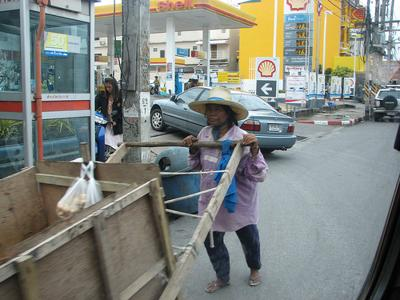person: (182, 85, 269, 293)
